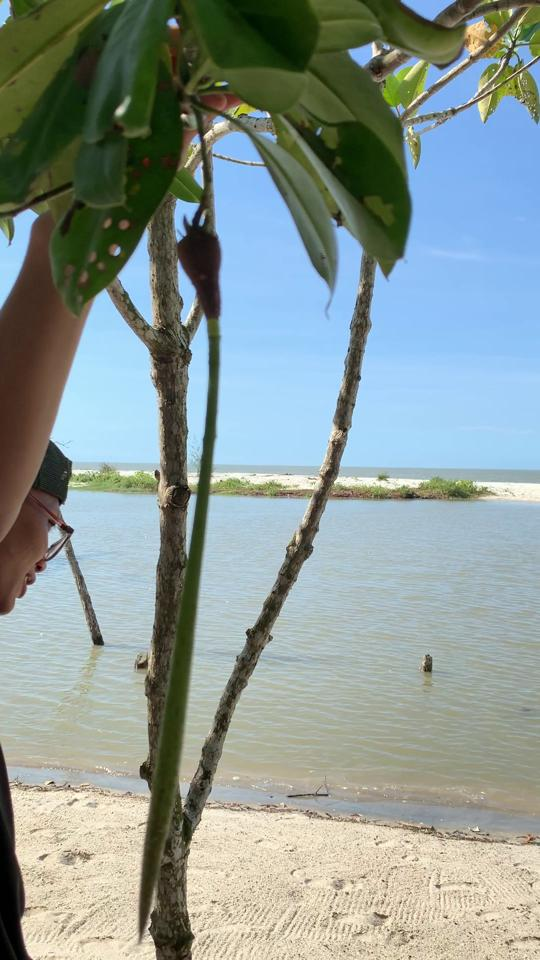setengah matang: (123, 200, 241, 953)
